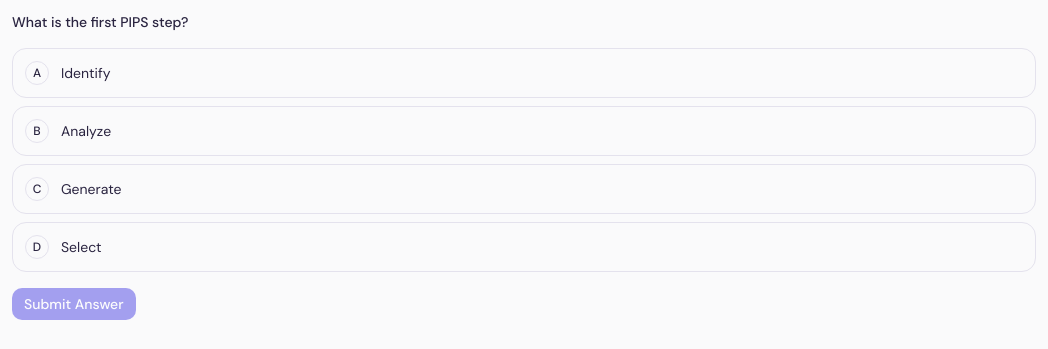
it: TrainingMultipleChoice › shows "Not quite" feedback for wrong answer
Step 1. Click the text "Generate" → (91, 189), box [61, 180, 121, 198]
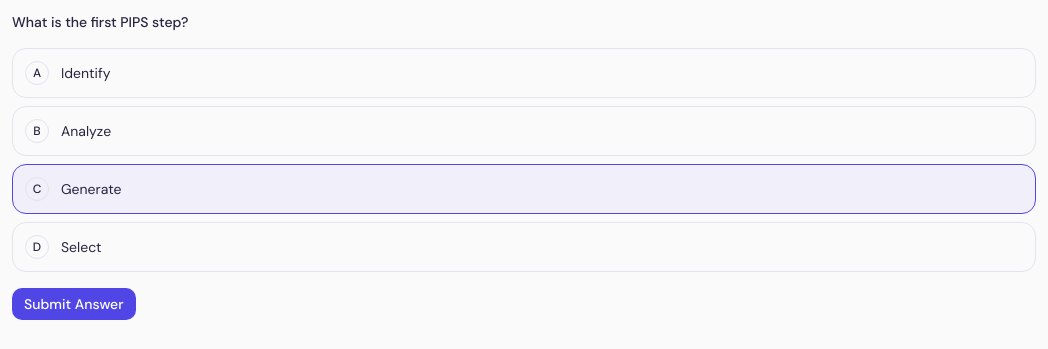
Step 2. Click the button "Submit Answer" → (74, 304), box [12, 288, 136, 320]
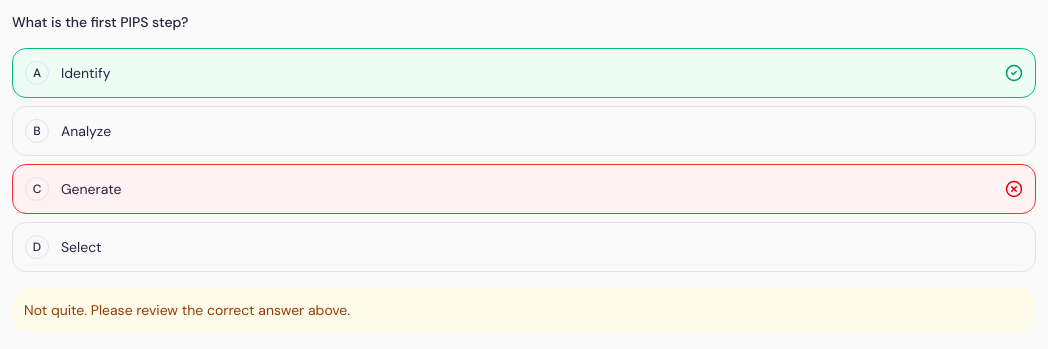
Expected: the message shows "Not quite", [24, 301, 350, 319]
